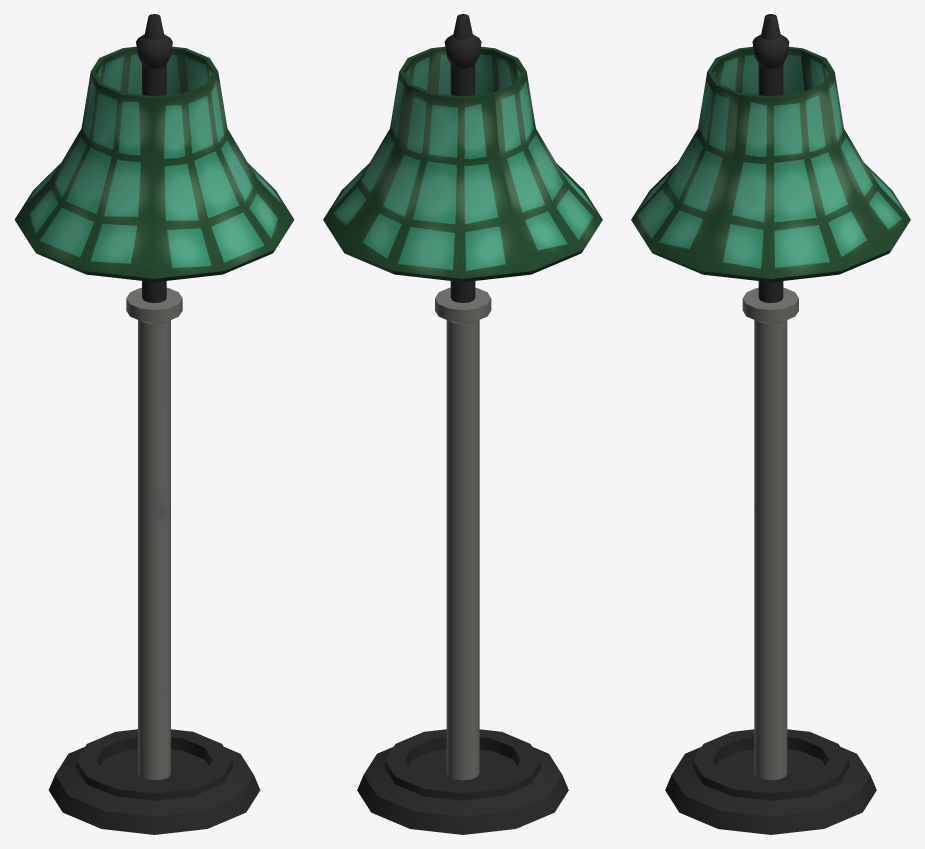
File: Floor_lamp.FBX
3 views of the same model, side by side, from view 1: azimuth 30°, elevation 25°; view 2: azimuth 150°, elevation 25°; view 3: azimuth 270°, elevation 25° (orthographic).
Parts seen in each view (by area): view 1: Cylinder003, Cylinder002; view 2: Cylinder003, Cylinder002; view 3: Cylinder003, Cylinder002.
Part boxes in pixels (bbox=[...]): Cylinder003: bbox=[14, 46, 294, 282]; Cylinder002: bbox=[48, 14, 260, 834]; Cylinder003: bbox=[323, 46, 602, 282]; Cylinder002: bbox=[357, 14, 568, 834]; Cylinder003: bbox=[631, 46, 910, 282]; Cylinder002: bbox=[665, 14, 876, 834].
Size of the model in its own units: 87.67 by 267 by 87.67.
